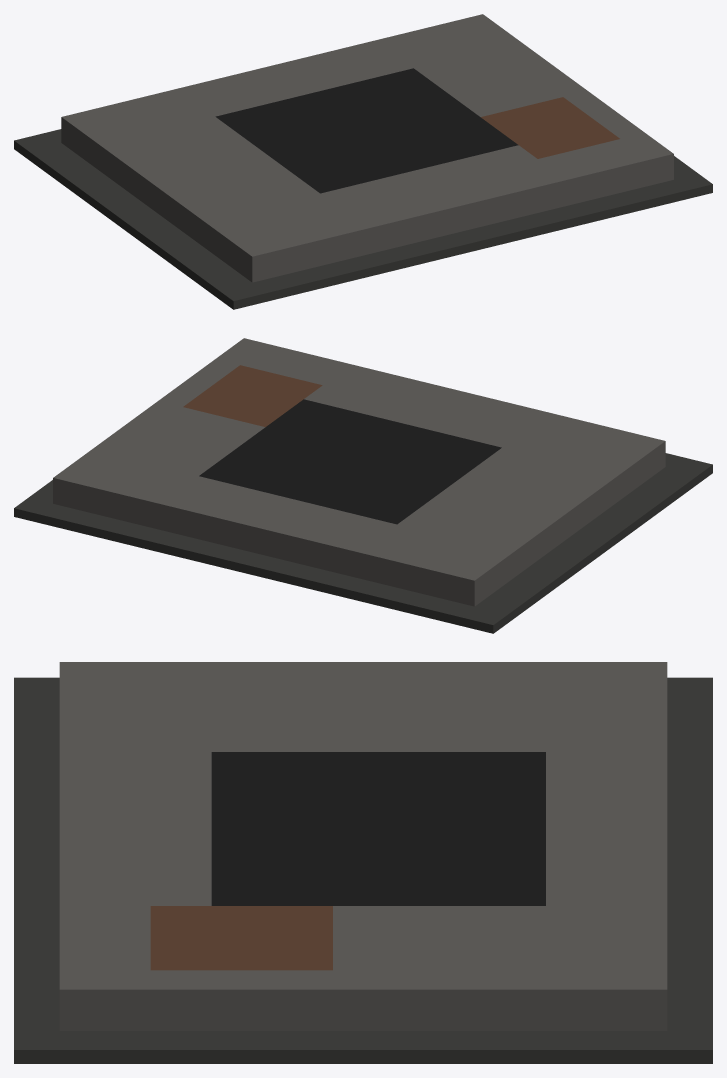
File: burnt_out_bus_roof_unit.glb
3 views of the same model, one above another, from view 1: azimuth 30°, elevation 25°; view 2: azimuth 150°, elevation 25°; view 3: azimuth 270°, elevation 25° (orthographic). The views are drawn at different scales.
Visible parts, largest first — view 1: body:compound; view 2: body:compound; view 3: body:compound.
Part boxes in pixels (bbox=[...]): body:compound: bbox=[14, 14, 712, 309]; body:compound: bbox=[14, 338, 712, 633]; body:compound: bbox=[14, 662, 712, 1063].
Bounding box in the file's own units: 1.81 × 0.125 × 1.44.
